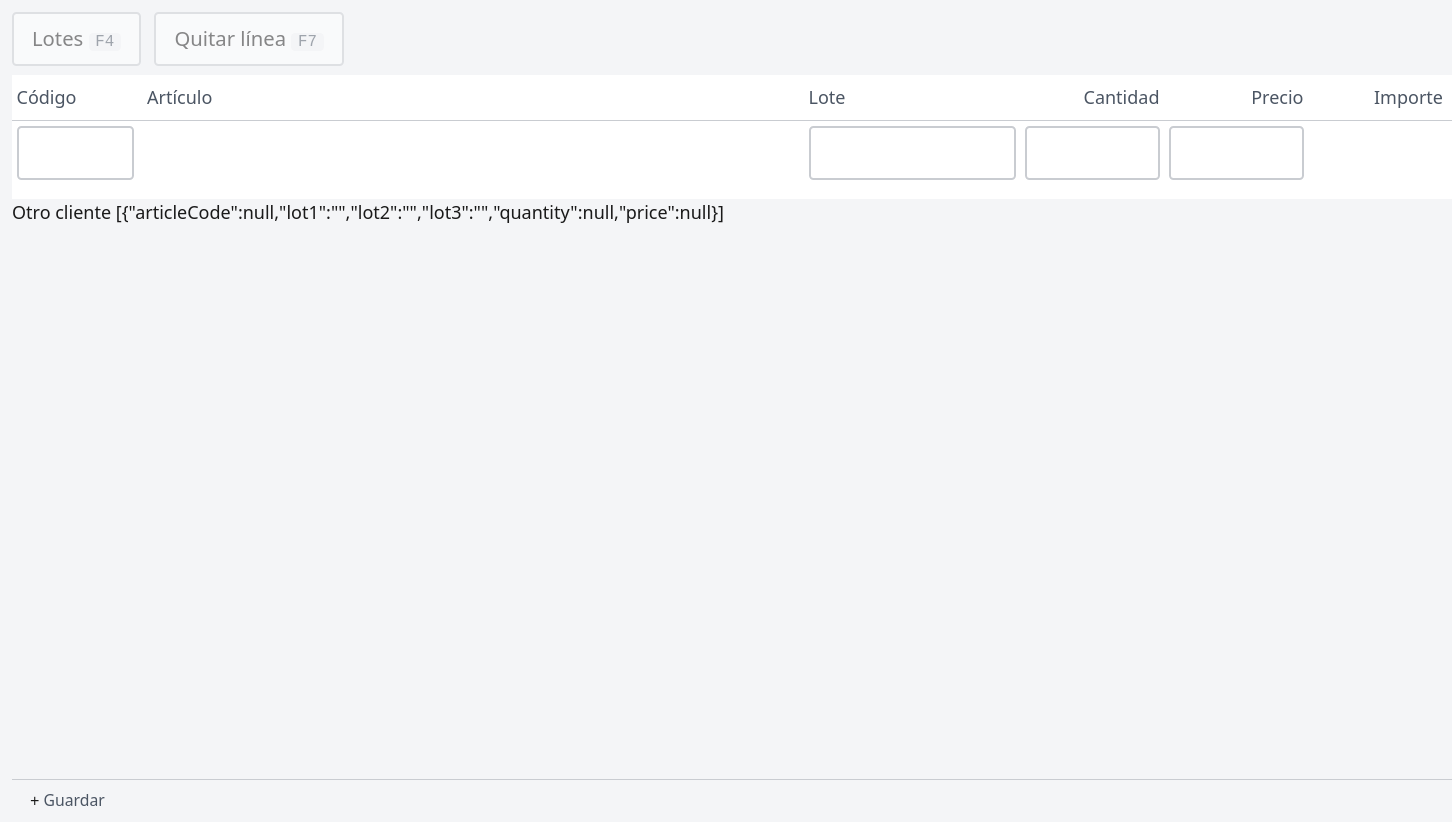
Test: LinesGrid › the found article name shows in its column
This screenshot has width=1452, height=822.
Click the 1st field named "Código" at (75, 152), box [16,126,134,180]
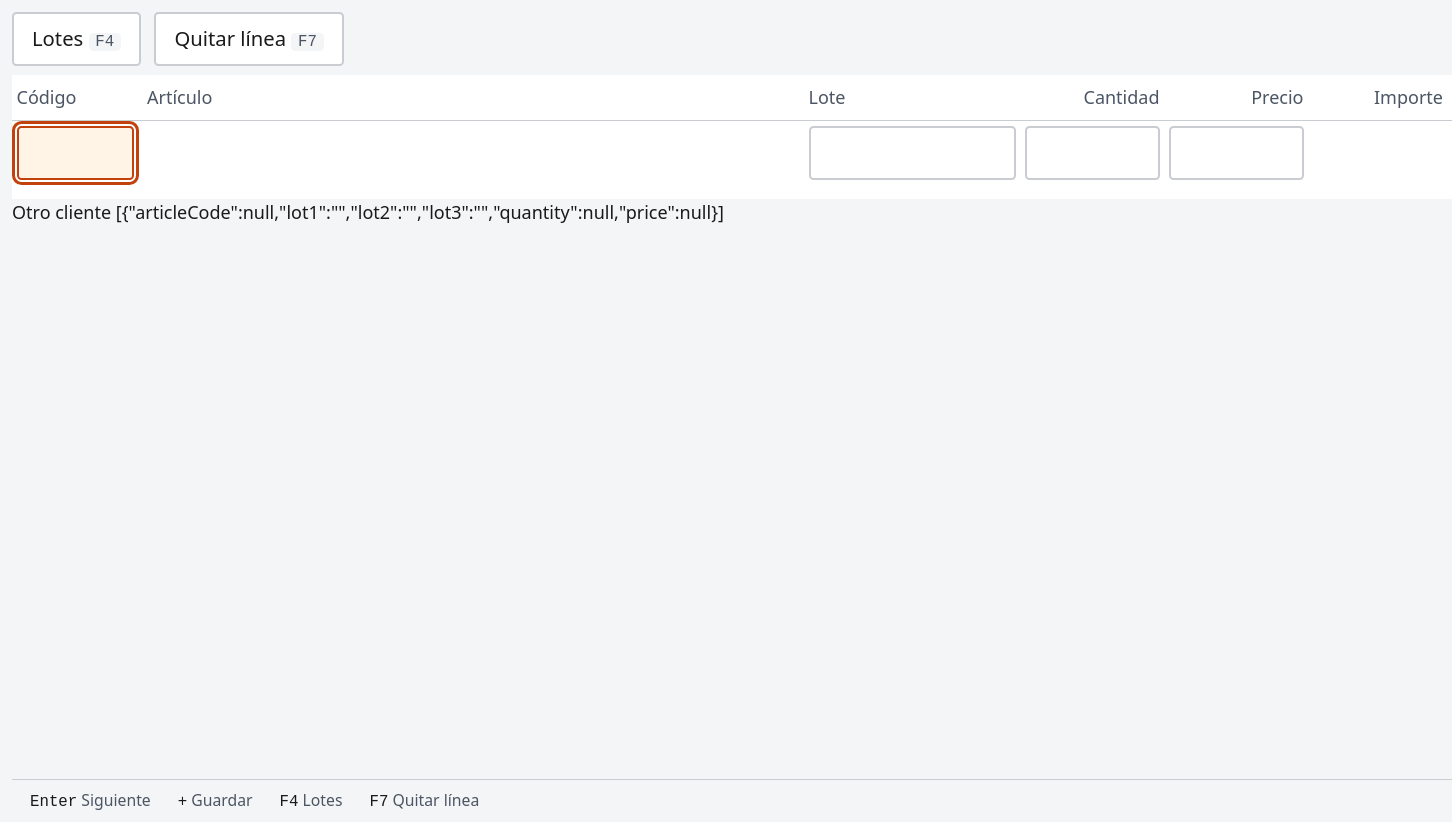
Type keys "15{Enter}"
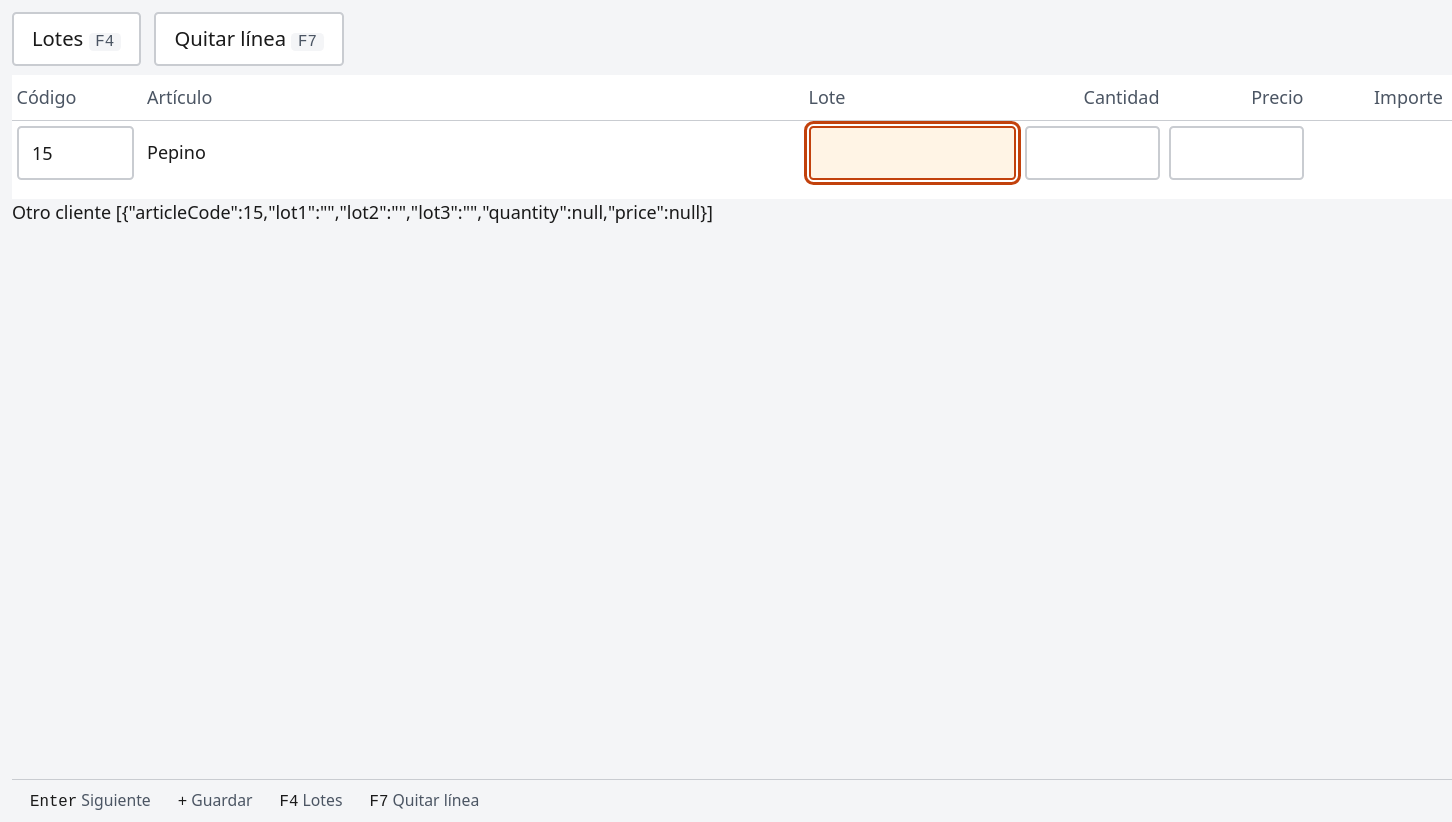
Expected: the cell "Pepino" is shown, [138,121,804,199]
